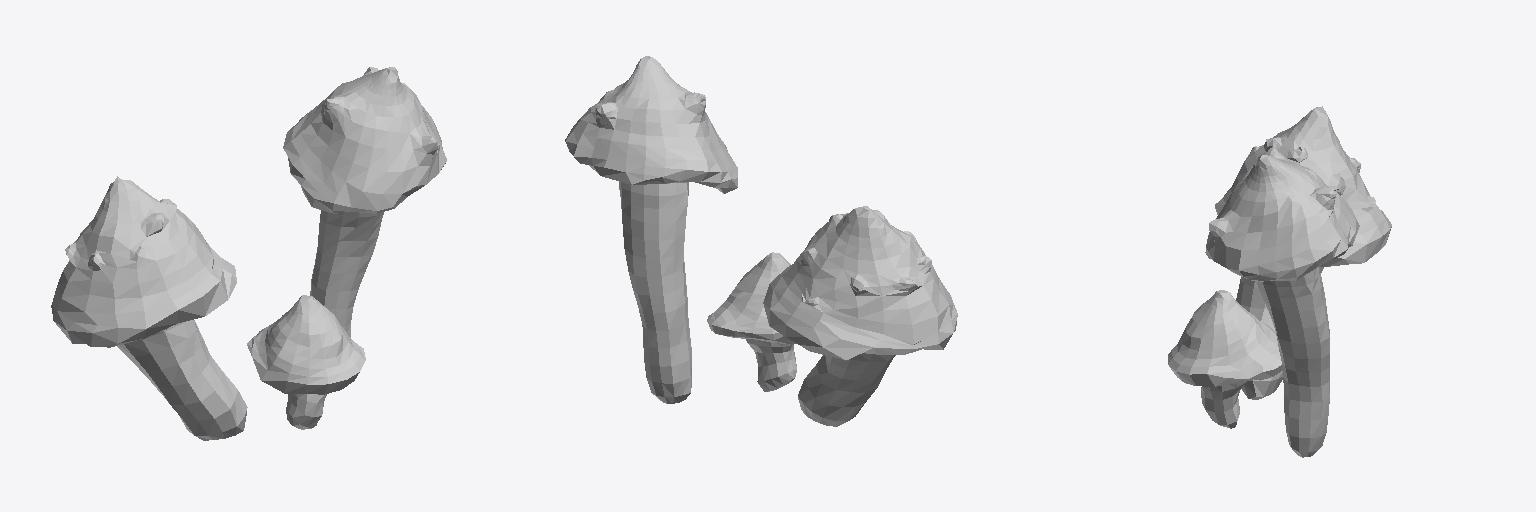
The model's file is Giftpilzi.obj.
3 views of the same model, side by side, from view 1: azimuth 30°, elevation 25°; view 2: azimuth 150°, elevation 25°; view 3: azimuth 270°, elevation 25° (orthographic).
Parts seen in each view (by area): view 1: Giftpilzi.001; view 2: Giftpilzi.001; view 3: Giftpilzi.001.
Part boxes in pixels (x1,y1,x2,y2): Giftpilzi.001: (51, 67, 446, 440); Giftpilzi.001: (565, 56, 957, 426); Giftpilzi.001: (1168, 106, 1391, 457).
Bounding box in the file's own units: 8.75 × 7.23 × 4.54.